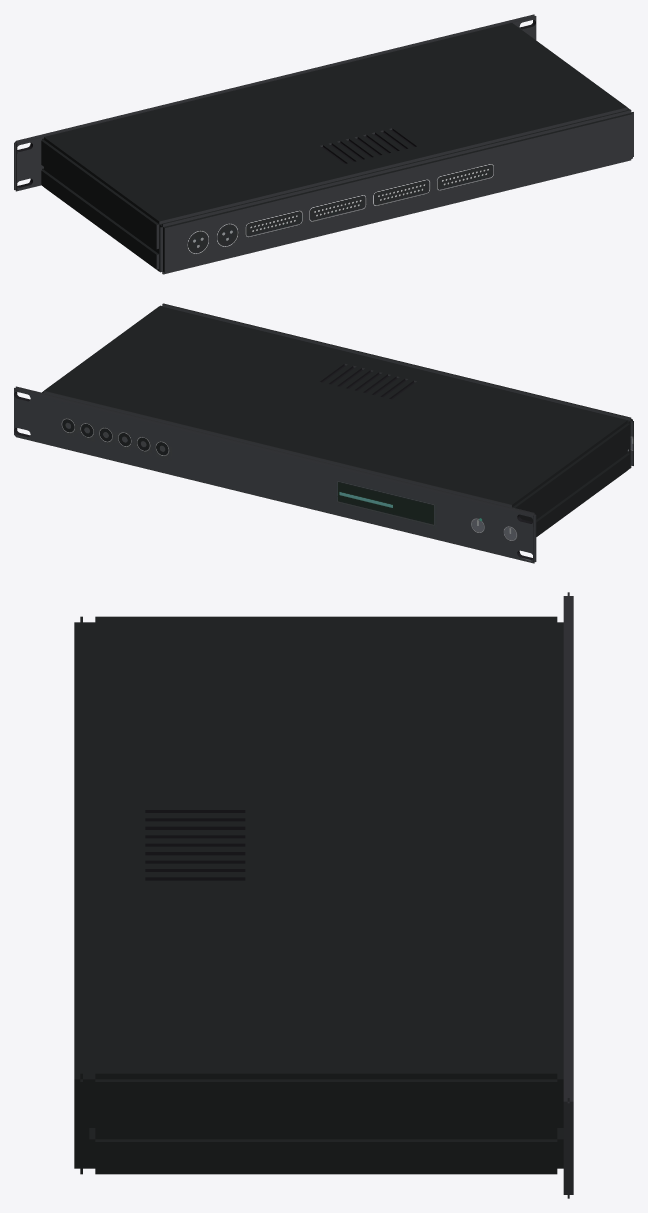
The model's file is avid-protools-mtrx-studio.glb.
3 views of the same model, one above another, from view 1: azimuth 30°, elevation 25°; view 2: azimuth 150°, elevation 25°; view 3: azimuth 270°, elevation 25° (orthographic). The views are drawn at different scales.
Parts seen in each view (by area): view 1: avid-protools-mtrx-studio-body; view 2: avid-protools-mtrx-studio-body; view 3: avid-protools-mtrx-studio-body.
Part boxes in pixels (bbox=[...]): avid-protools-mtrx-studio-body: bbox=[14, 14, 633, 274]; avid-protools-mtrx-studio-body: bbox=[14, 303, 633, 563]; avid-protools-mtrx-studio-body: bbox=[74, 592, 573, 1198].
Size of the model in its own units: 0.4826 by 0.0445 by 0.2.
Materials: 1 (1 with a texture image).
